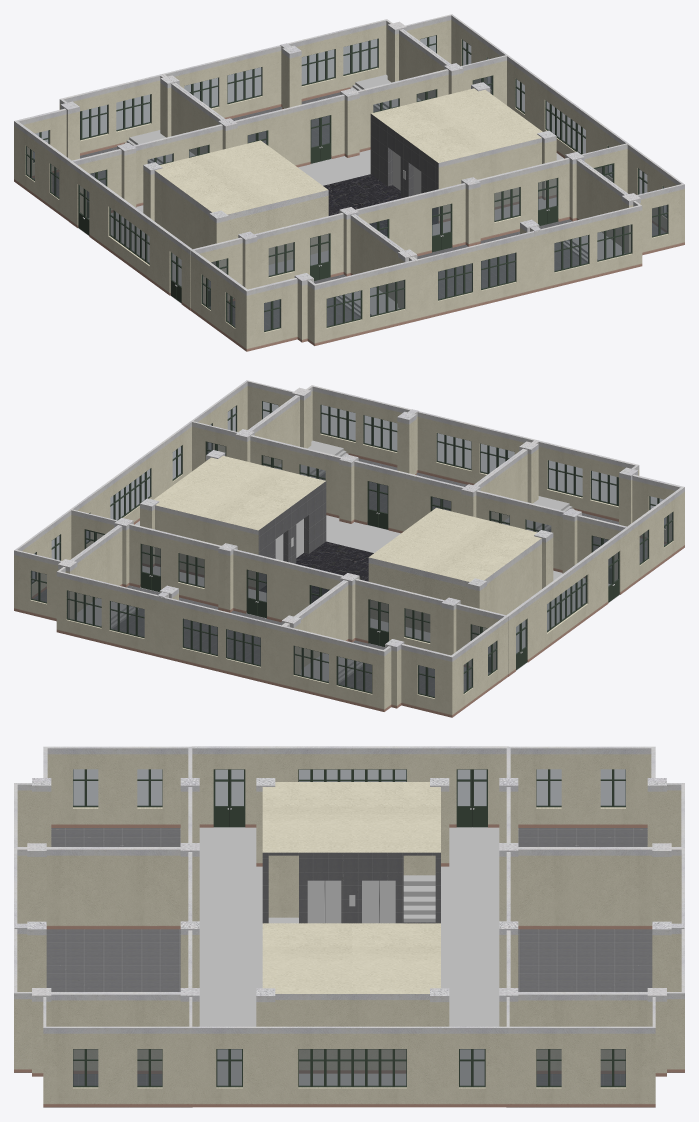
Rendered from Floor_3.fbx.
3 renders of one model, top to bottom at view 1: azimuth 30°, elevation 25°; view 2: azimuth 150°, elevation 25°; view 3: azimuth 270°, elevation 25°, orthographic. The views are drawn at different scales.
Visible parts, largest first — view 1: Hall, P_2, P_1, P_4, P_5, P_s2, P_s1; view 2: Hall, P_1, P_2, P_5, P_4, P_s1, P_s2; view 3: Hall, P_2, P_1, P_s2, P_s1, P_4, P_5.
Part boxes in pixels (<box>): Hall: <box>69,55,627,310</box>; P_2: <box>346,153,642,321</box>; P_1: <box>161,19,457,167</box>; P_4: <box>190,208,416,351</box>; P_5: <box>14,74,231,221</box>; P_s2: <box>572,143,684,255</box>; P_s1: <box>394,14,507,105</box>; Hall: <box>71,421,628,676</box>; P_1: <box>56,519,352,687</box>; P_2: <box>241,385,537,533</box>; P_5: <box>282,574,507,717</box>; P_4: <box>467,440,684,588</box>; P_s1: <box>14,509,126,621</box>; P_s2: <box>191,380,304,471</box>; Hall: <box>191,746,508,1107</box>; P_2: <box>14,847,199,1072</box>; P_1: <box>499,847,684,1072</box>; P_s2: <box>32,992,199,1107</box>; P_s1: <box>499,992,666,1107</box>; P_4: <box>14,746,199,848</box>; P_5: <box>499,746,684,848</box>.
Bounding box in the file's own units: 29.58 × 5.04 × 29.8.
